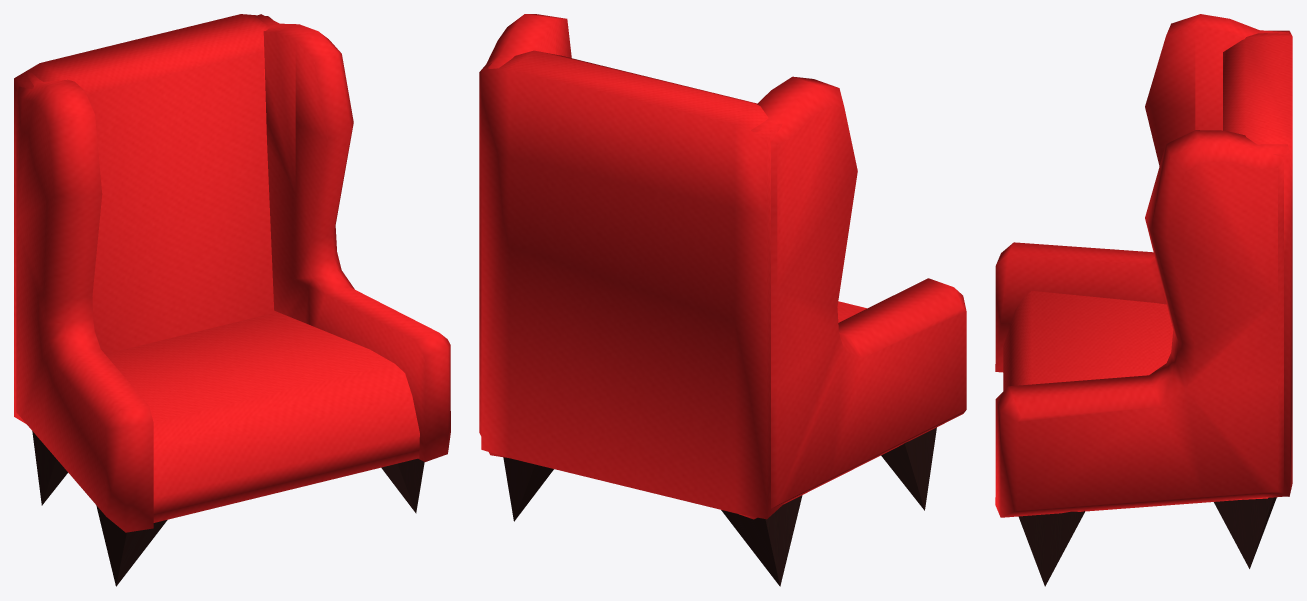
File: Winged_Armchair_F_2.FBX
The picture shows the model from 3 angles, left to right: view 1: azimuth 30°, elevation 25°; view 2: azimuth 150°, elevation 25°; view 3: azimuth 270°, elevation 25°; orthographic projection. The views are drawn at different scales.
Parts seen in each view (by area): view 1: Winged_Armchair; view 2: Winged_Armchair; view 3: Winged_Armchair.
Boxes of the visible parts, <box> form: Winged_Armchair: <box>14,14,450,586</box>; Winged_Armchair: <box>479,14,966,586</box>; Winged_Armchair: <box>995,14,1292,586</box>.
Bounding box in the file's own units: 174 × 208 × 129.
